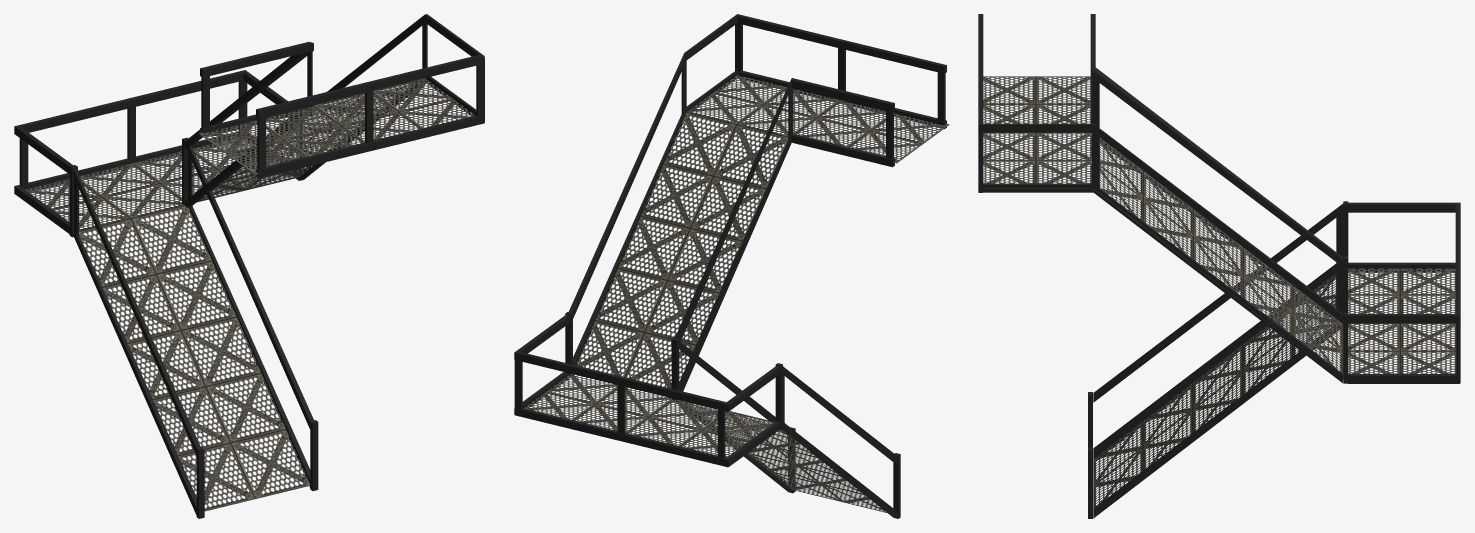
Rendered from Ladder.fbx.
3 renders of one model, left to right at view 1: azimuth 30°, elevation 25°; view 2: azimuth 150°, elevation 25°; view 3: azimuth 270°, elevation 25°, orthographic. The views are drawn at different scales.
Visible parts, largest first — view 1: Ladder; view 2: Ladder; view 3: Ladder.
Part boxes in pixels (<box>): Ladder: <box>14,14,484,518</box>; Ladder: <box>514,14,949,518</box>; Ladder: <box>978,14,1460,518</box>.
Bounding box in the file's own units: 7.97 × 14.64 × 14.26.
